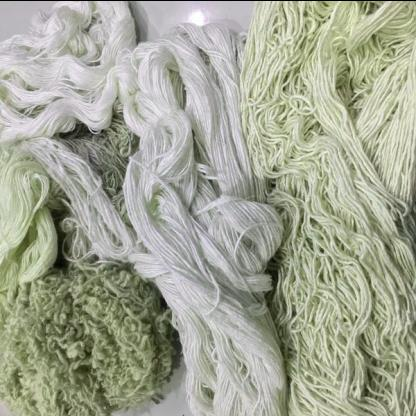Rope: (101, 17, 299, 416)
